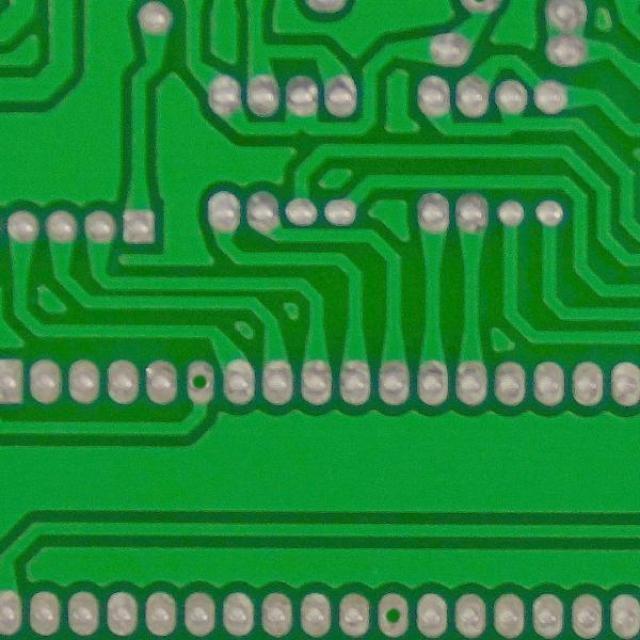Missing_Hole: (181, 358, 221, 406), (371, 593, 412, 638)
